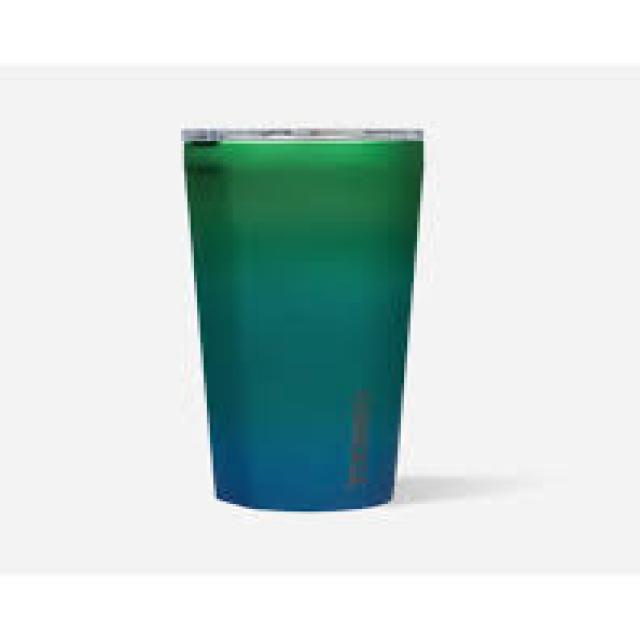bottle: (178, 127, 427, 511)
